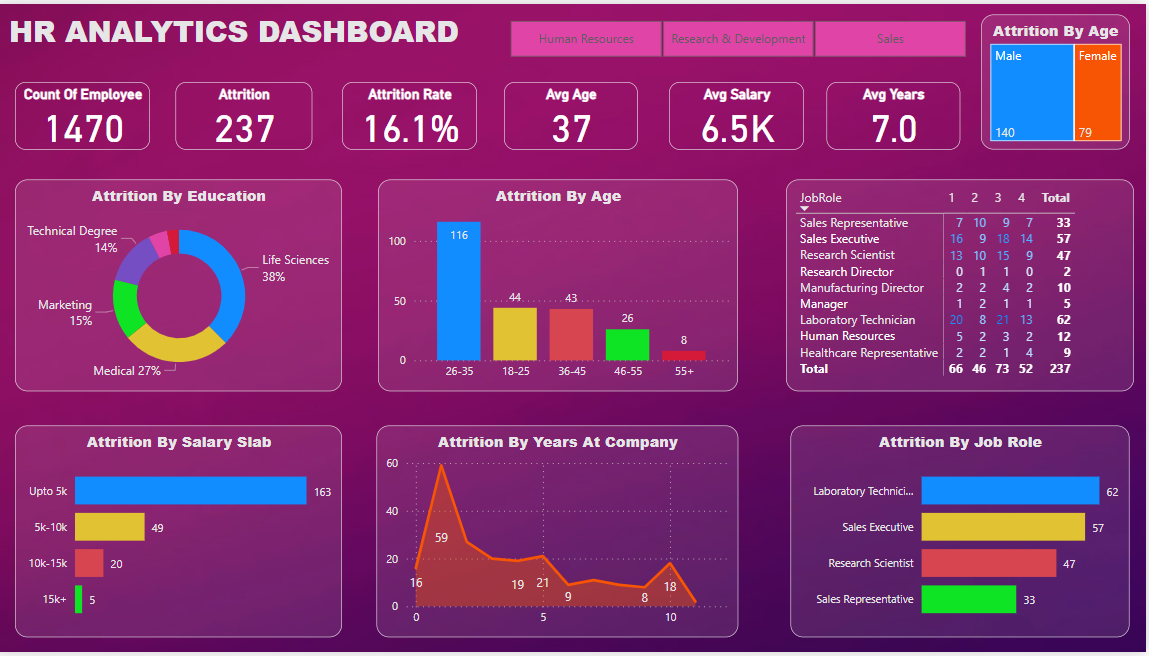

The page's visual inventory and layout, read from the dashboard file:
{"tool":"powerbi","page":{"name":"Page 1","canvas":[1280,720],"ordinal":0},"visuals":[{"type":"card","title":"Count Of Employee","fields":{"Values":["CountNonNull(HR_Analytics[1].EmpID)"]},"box":[23.3,86.7,150,75],"z":0},{"type":"card","title":"Attrition","fields":{"Values":["Sum(HR_Analytics[1].Attrition Count)"]},"box":[201.7,86.7,151.7,75],"z":1},{"type":"card","title":"Attrition Rate","fields":{"Values":["HR_Analytics[1].AttritionRate"]},"box":[386.7,86.7,150,75],"z":2},{"type":"card","title":"Avg Age","fields":{"Values":["Avg(HR_Analytics[1].Age)"]},"box":[566.7,86.7,148.3,75],"z":3},{"type":"card","title":"Avg Salary","fields":{"Values":["Avg(HR_Analytics[1].MonthlyIncome)"]},"box":[750,86.7,150,75],"z":4},{"type":"card","title":"Avg Years","fields":{"Values":["Avg(HR_Analytics[1].YearsAtCompany)"]},"box":[925,86.7,148.3,75],"z":5},{"type":"donutChart","title":"Attrition By Education","fields":{"Category":["HR_Analytics[1].EducationField"],"Y":["Sum(HR_Analytics[1].Attrition Count)"]},"box":[23.3,195,363.3,235],"z":6},{"type":"columnChart","title":"Attrition By Age","fields":{"Category":["HR_Analytics[1].AgeGroup"],"Y":["Sum(HR_Analytics[1].Attrition Count)"]},"box":[426.7,195,400,235],"z":7},{"type":"pivotTable","fields":{"Rows":["HR_Analytics[1].JobRole"],"Columns":["HR_Analytics[1].JobSatisfaction"],"Values":["Sum(HR_Analytics[1].Attrition Count)"]},"box":[880,195,386.7,235],"z":8},{"type":"clusteredBarChart","title":"Attrition By Salary Slab","fields":{"Category":["HR_Analytics[1].SalarySlab"],"Y":["Sum(HR_Analytics[1].Attrition Count)"]},"box":[23.3,468.3,363.3,235],"z":9},{"type":"clusteredBarChart","title":"Attrition By Job Role","fields":{"Category":["HR_Analytics[1].JobRole"],"Y":["Sum(HR_Analytics[1].Attrition Count)"]},"box":[885,468.3,376.7,235],"z":10},{"type":"stackedAreaChart","title":"Attrition By Years At Company","fields":{"Category":["HR_Analytics[1].YearsAtCompany"],"Y":["Sum(HR_Analytics[1].Attrition Count)"]},"box":[425,468.3,401.7,235],"z":11},{"type":"treemap","title":"Attrition By Age","fields":{"Group":["HR_Analytics[1].Gender"],"Values":["Sum(HR_Analytics[1].Attrition Count)"]},"box":[1096.7,11.7,165,150],"z":12},{"type":"slicer","fields":{"Values":["HR_Analytics[1].Department"]},"box":[548.3,11.7,555,53.3],"z":13},{"type":"textbox","box":[11.7,1.7,555,63.3],"z":14}]}

Visuals, with their boxes in screenshot pixels (x1, y1, x2, y2), scaled from the page's 1280x720 canvas onto the 1149x656 screenshot:
"Count Of Employee" card: [21,79,156,147]
"Attrition" card: [181,79,317,147]
"Attrition Rate" card: [347,79,482,147]
"Avg Age" card: [509,79,642,147]
"Avg Salary" card: [673,79,808,147]
"Avg Years" card: [830,79,963,147]
"Attrition By Education" donutChart: [21,178,347,392]
"Attrition By Age" columnChart: [383,178,742,392]
pivotTable - HR_Analytics[1].JobRole x HR_Analytics[1].JobSatisfaction: [790,178,1137,392]
"Attrition By Salary Slab" clusteredBarChart: [21,427,347,641]
"Attrition By Job Role" clusteredBarChart: [794,427,1133,641]
"Attrition By Years At Company" stackedAreaChart: [382,427,742,641]
"Attrition By Age" treemap: [984,11,1133,147]
slicer - HR_Analytics[1].Department: [492,11,990,59]
textbox: [11,2,509,59]
